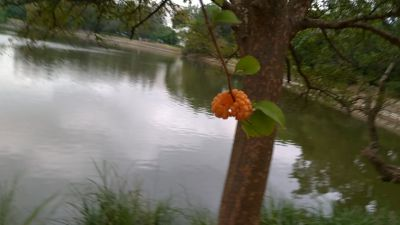eggs: (211, 88, 255, 121)
